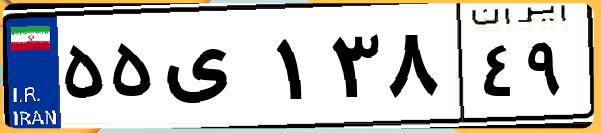1: (270, 28, 330, 110)
3: (330, 28, 385, 110)
4: (475, 38, 525, 113)
5: (57, 26, 110, 100), (110, 28, 158, 98)
8: (385, 28, 445, 110)
9: (525, 38, 570, 115)
ی: (158, 20, 270, 120)
